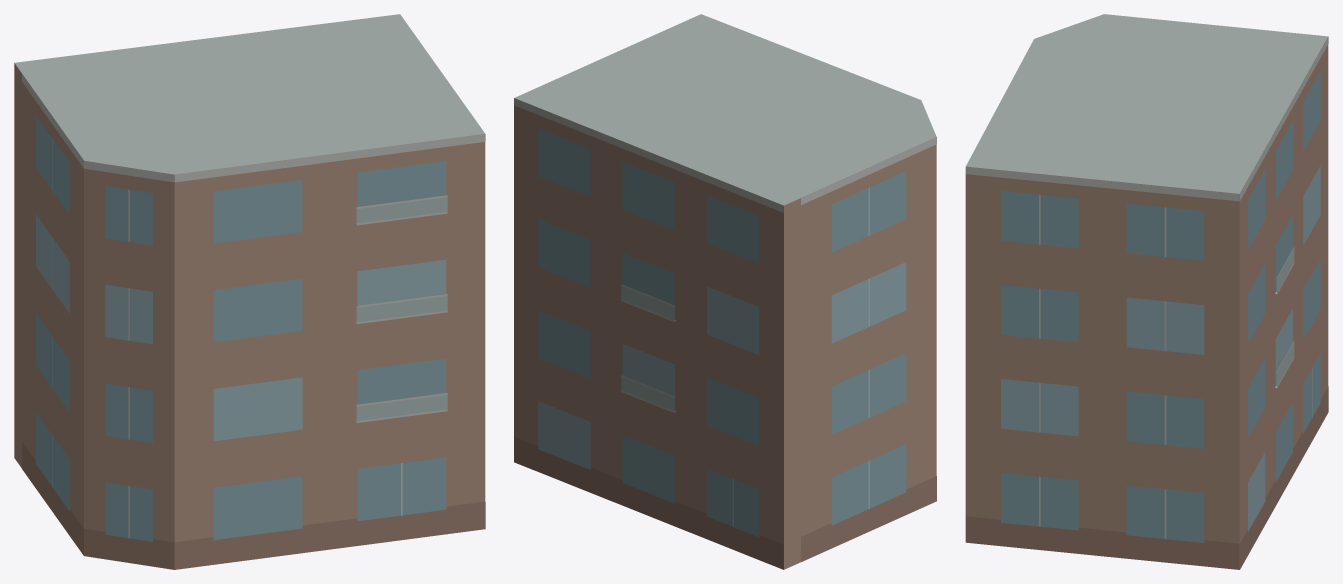
The model's file is survey-upis-32538656.glb.
3 views of the same model, side by side, from view 1: azimuth 30°, elevation 25°; view 2: azimuth 150°, elevation 25°; view 3: azimuth 270°, elevation 25° (orthographic). The views are drawn at different scales.
Visible parts, largest first — view 1: survey-upis-32538656.tmp; view 2: survey-upis-32538656.tmp; view 3: survey-upis-32538656.tmp.
Part boxes in pixels (<box>): survey-upis-32538656.tmp: <box>14,14,485,569</box>; survey-upis-32538656.tmp: <box>514,14,936,569</box>; survey-upis-32538656.tmp: <box>965,14,1328,569</box>.
Size of the model in its own units: 12.52 by 12.2 by 10.68.
